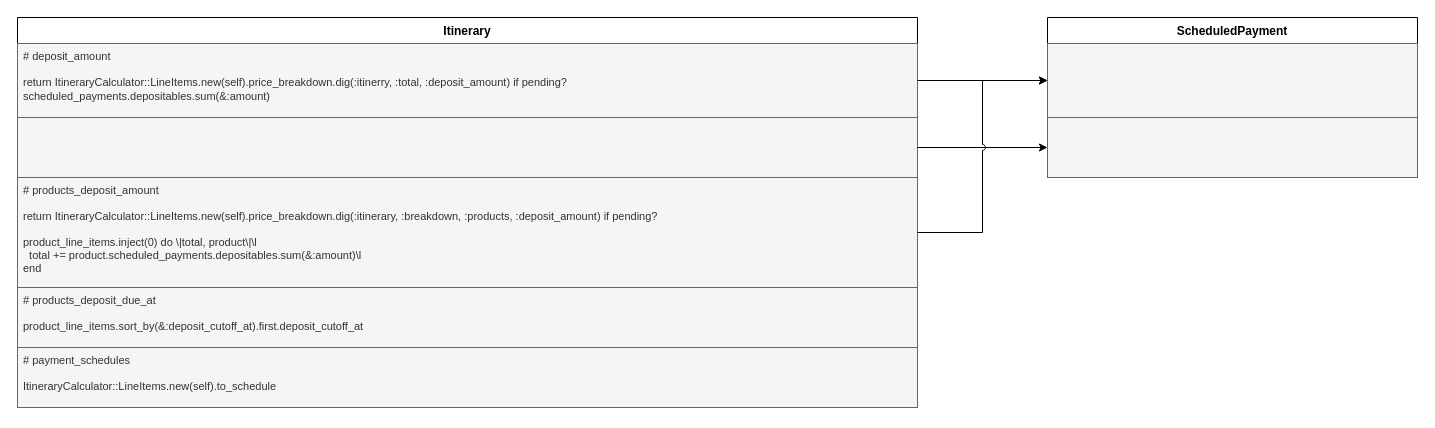
This 1435x428 diagram has some shape labels left out. Here are the shapes that lost their labels. From the top down, the centre of each, then its label:
point 1232,80: .depositables where(payment_type: :deposit)
point 467,147: # remaining_amount scheduled_payments.scheduled.sum(&:amount)
point 1232,147: .scheduled where(payment_type: :scheduled)
